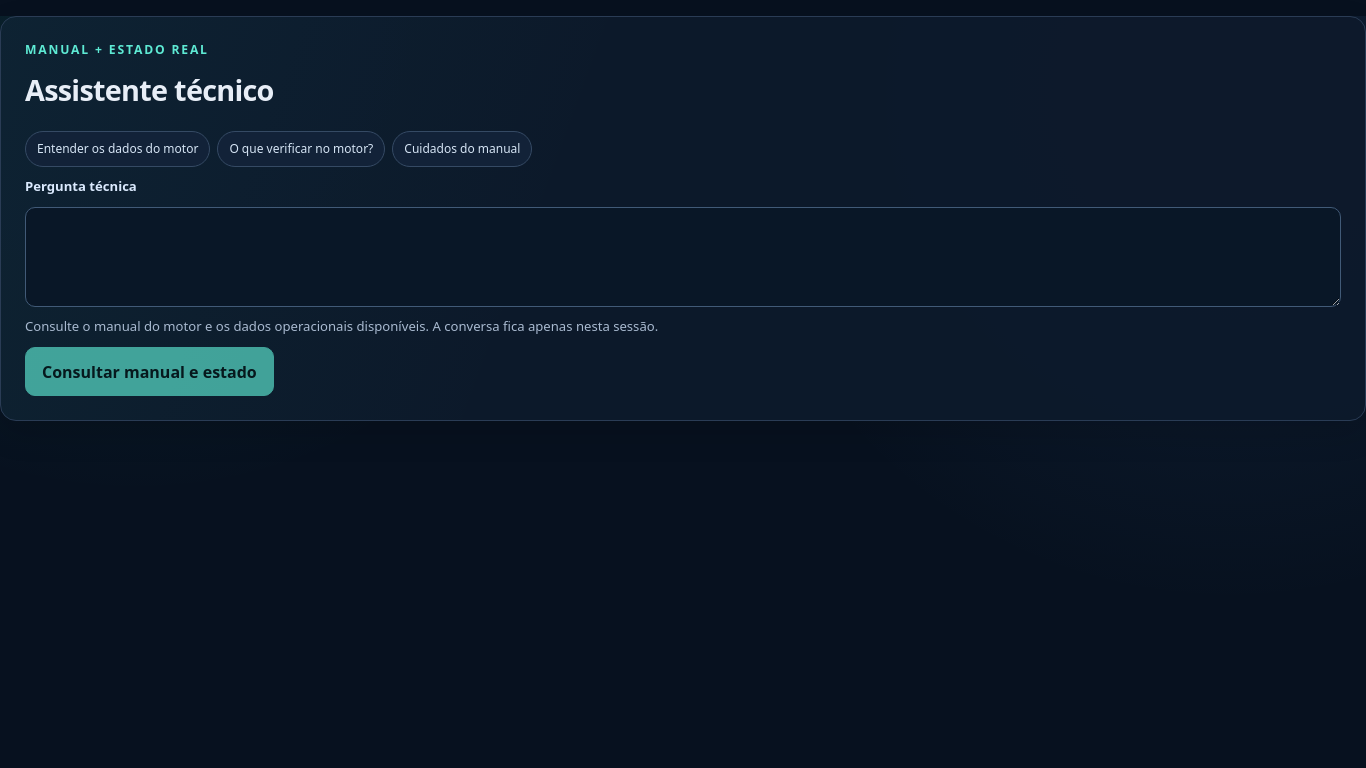
Test case: TechnicalAssistantPanel explicit safety states › surfaces the server-owned operational warning: O dado operacional está antigo e deve ser atualizado.
The width and height of the screenshot is (1366, 768).
In the text box labelled "Pergunta técnica": (683, 257) [25,207,1341,307], type "Qual é o contexto operacional?"
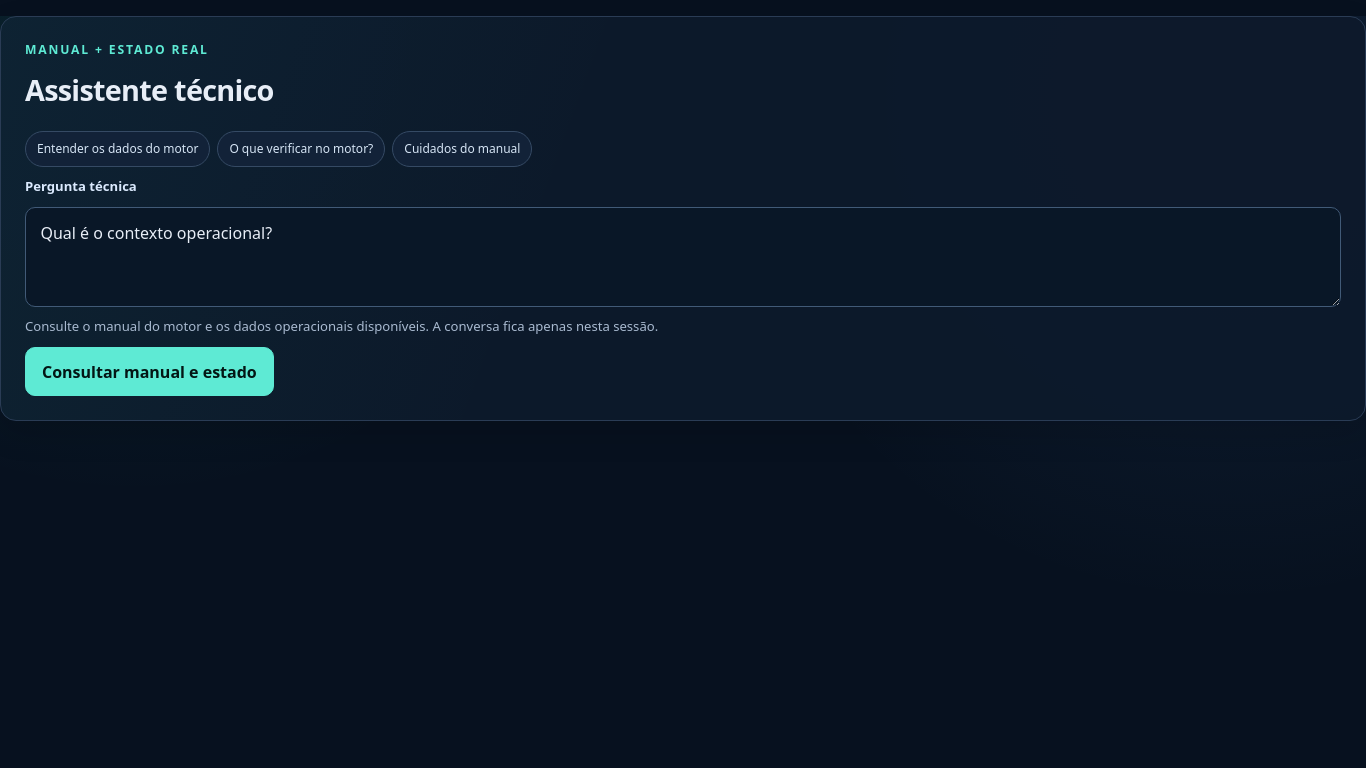
Submit the form named "Consultar o assistente técnico", box [25,177,1341,396]
(page scrolled)
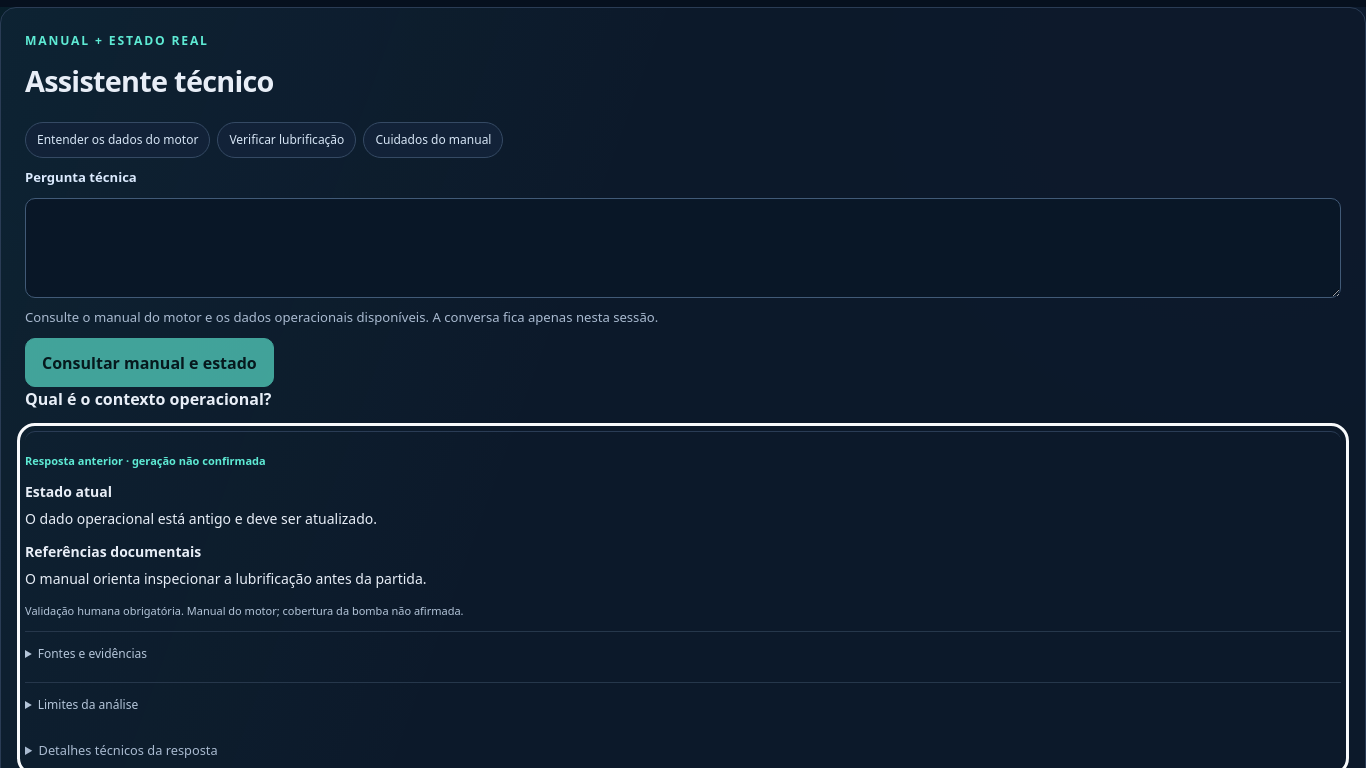
Result: the text "O dado operacional está antigo e deve ser atualizado." is shown at [25,509,377,528]
